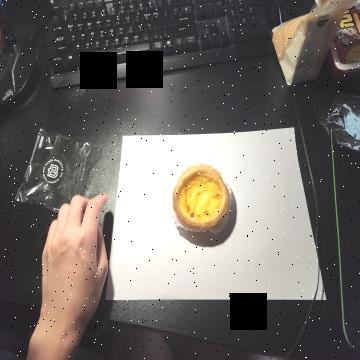EggTart: (174, 162, 230, 232)
